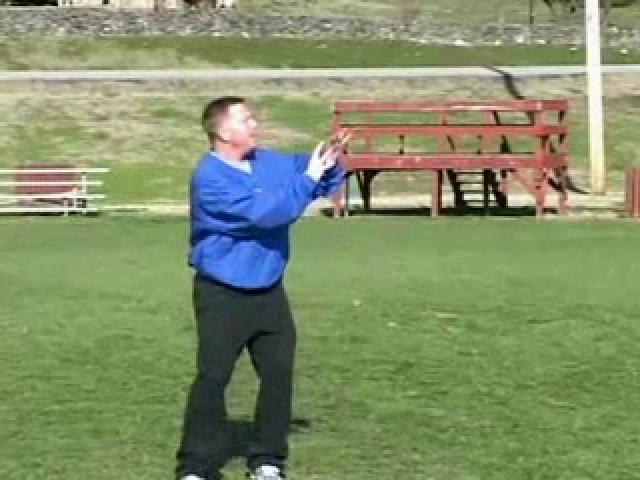I: (163, 93, 345, 469)
